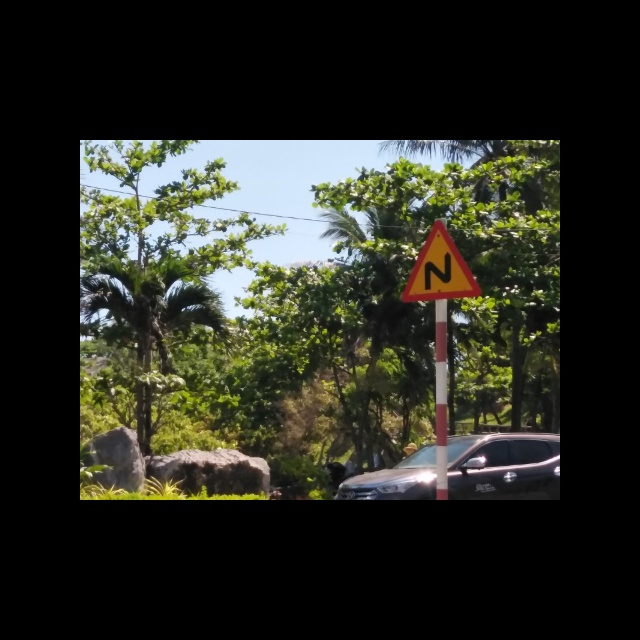Ngoặt nguy hiểm liên tiếp bên phải: (400, 218, 481, 303)
